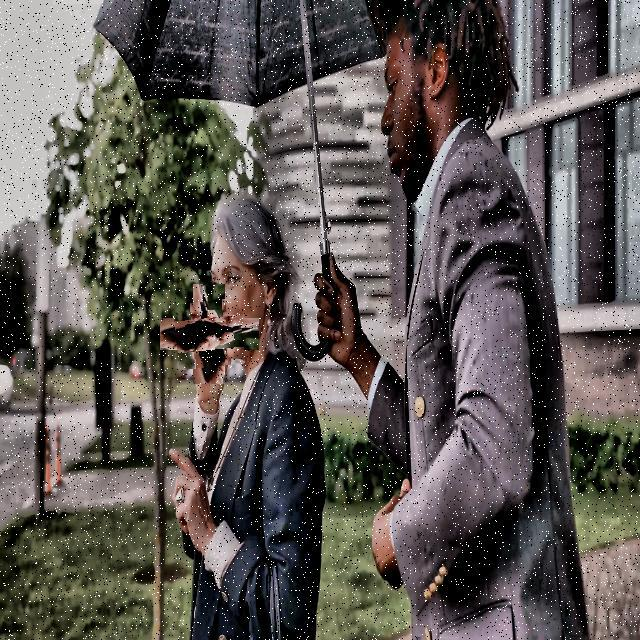Phone: (174, 300, 243, 368)
